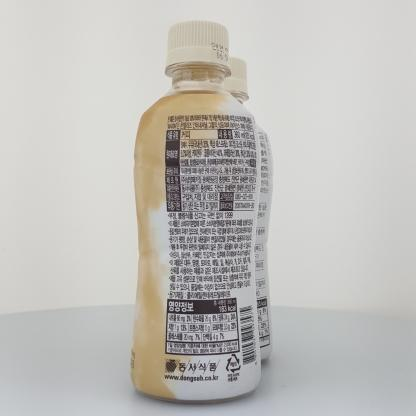--------TOP-----------: (130, 19, 261, 403)
